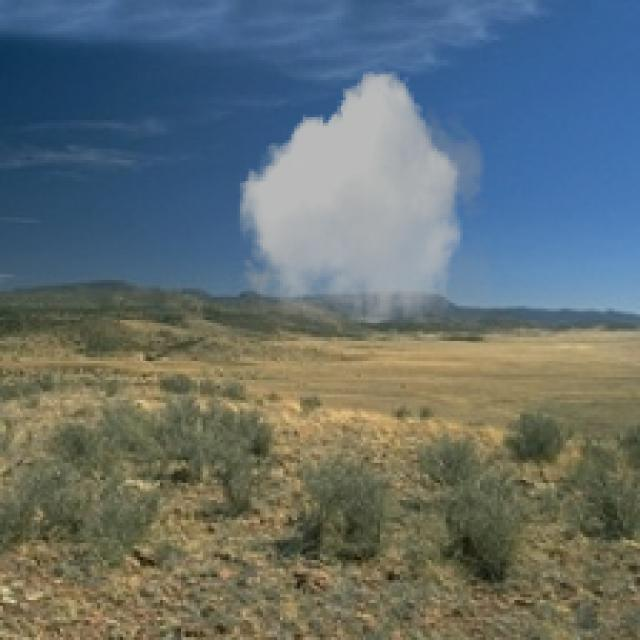smoke: (234, 71, 492, 323)
